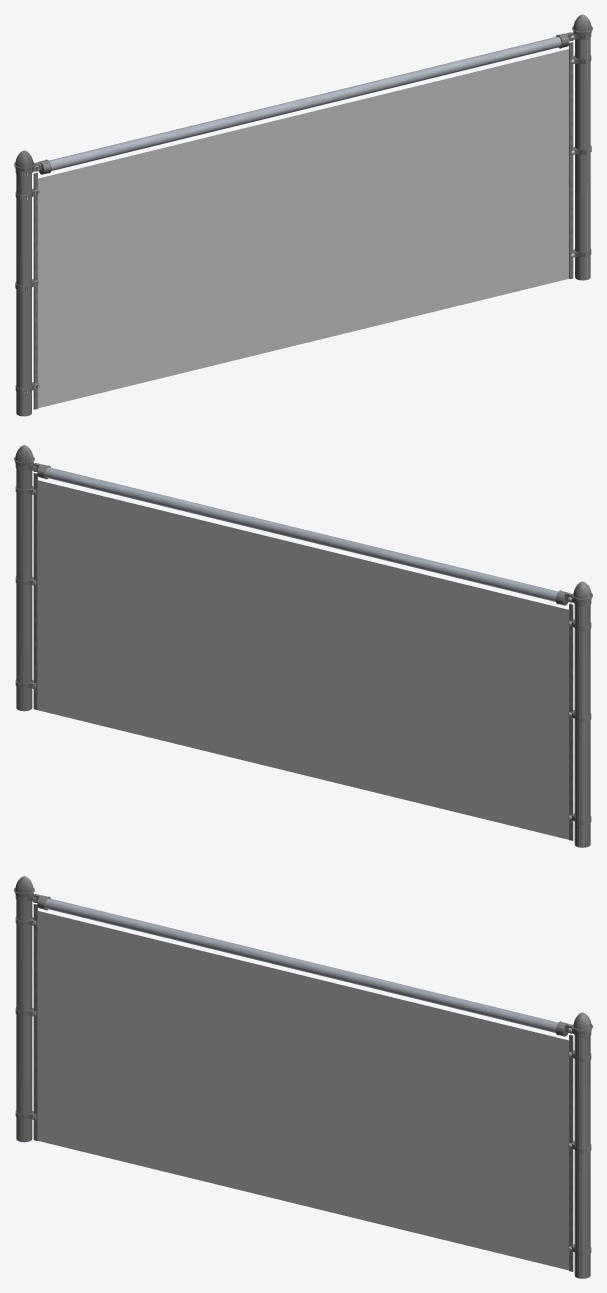
File: Chain-Link-Fence-Section.fbx
3 renders of one model, top to bottom at view 1: azimuth 30°, elevation 25°; view 2: azimuth 150°, elevation 25°; view 3: azimuth 330°, elevation 25°, orthographic.
Parts seen in each view (by area): view 1: Group1, Group11, Group2, Group13, Group7; view 2: Group1, Group2, Group11, Group13, Group7; view 3: Group1, Group11, Group2, Group7, Group13.
Boxes of the visible parts, x1,y1,x2,y2 form: Group1: [38, 36, 568, 408]; Group11: [575, 38, 590, 280]; Group2: [16, 174, 31, 416]; Group13: [569, 42, 573, 278]; Group7: [33, 172, 37, 409]; Group1: [37, 467, 568, 839]; Group2: [574, 604, 590, 847]; Group11: [16, 469, 32, 711]; Group13: [33, 473, 37, 709]; Group7: [569, 603, 573, 840]; Group1: [37, 898, 568, 1270]; Group11: [574, 1035, 590, 1278]; Group2: [16, 900, 32, 1142]; Group7: [33, 904, 37, 1140]; Group13: [569, 1034, 573, 1271].
Size of the model in its own units: 99.69 by 43.38 by 3.19.
